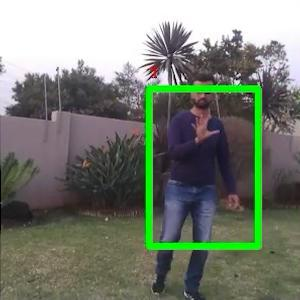follow_hand: (186, 108, 223, 143)
